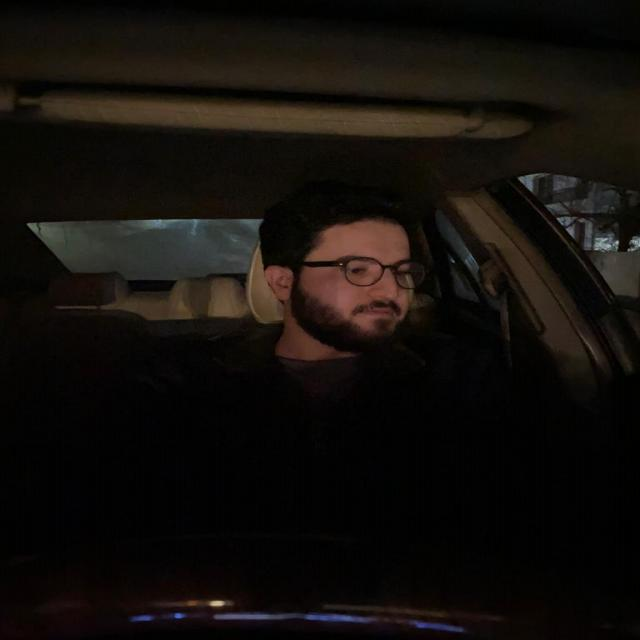person: (272, 189, 421, 357)
